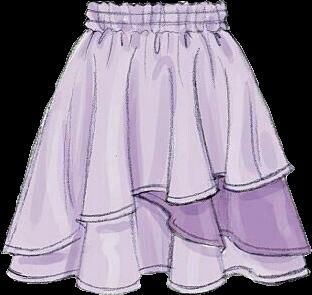Hemline: (1, 166, 294, 254), (138, 196, 311, 258), (5, 270, 309, 294)
Waistline: (86, 27, 228, 34), (87, 0, 224, 6)
